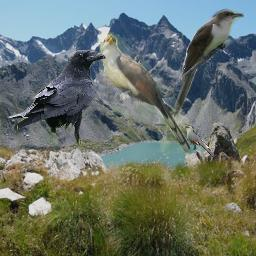Crow: (7, 50, 106, 146)
Cuckoo: (99, 32, 193, 153), (170, 8, 244, 119), (178, 125, 218, 161)
